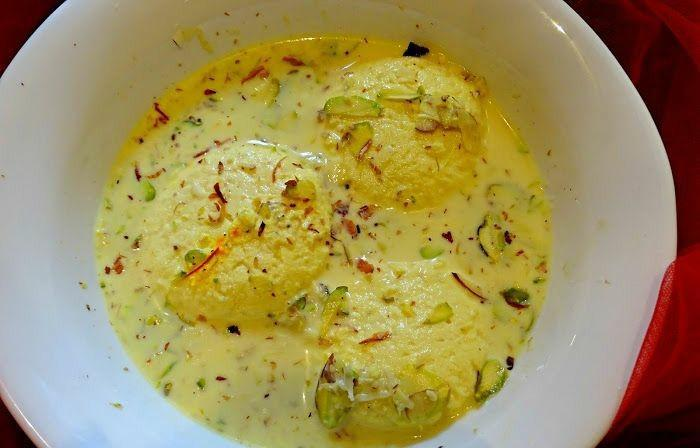RasMalai: (94, 34, 547, 446)
